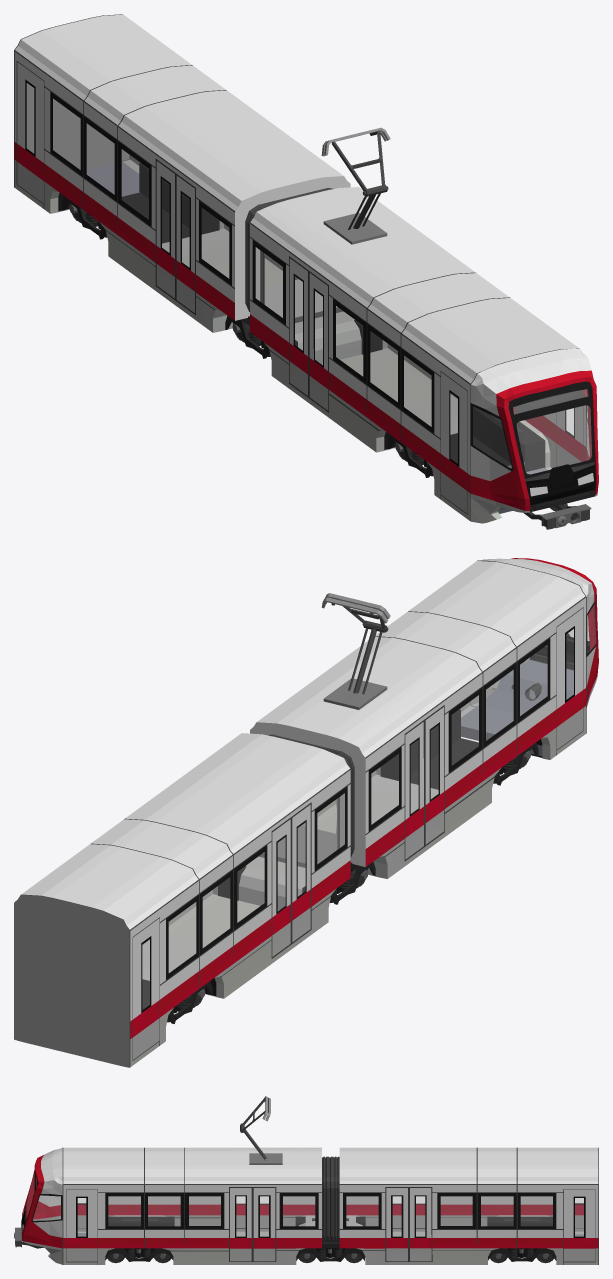
The model's file is light-rail-vehicle-v01.glb.
3 renders of one model, top to bottom at view 1: azimuth 30°, elevation 25°; view 2: azimuth 150°, elevation 25°; view 3: azimuth 270°, elevation 25°, orthographic. The views are drawn at different scales.
Parts seen in each view (by area): view 1: Plane.004, Plane.024, Plane.026, Plane.006, Plane.020, Plane.011, Plane.001, Plane.031, Plane.002, Circle.009, Cube, Plane.032; view 2: Plane.024, Plane.004, Plane.006, Plane.026, Plane.012, Plane.011, Circle.009, Plane.032, Cube, Plane.033; view 3: Plane.004, Plane.024, Plane.006, Plane.026, Cube, Plane.031, Plane.011, Plane.022, Plane.029, Plane.009, Plane.032, Plane.027 (+1 smaller).
Part boxes in pixels (x1,y1,x2,y2): Plane.004: [250, 187, 598, 523]; Plane.024: [14, 14, 350, 332]; Plane.026: [155, 159, 195, 315]; Plane.006: [289, 256, 328, 412]; Plane.020: [517, 405, 591, 473]; Plane.011: [384, 406, 545, 471]; Plane.001: [508, 381, 594, 478]; Plane.031: [58, 163, 219, 243]; Plane.002: [525, 462, 595, 505]; Circle.009: [332, 130, 388, 229]; Cube: [245, 188, 343, 322]; Plane.032: [323, 213, 387, 244]; Plane.024: [14, 733, 350, 1067]; Plane.004: [250, 558, 598, 878]; Plane.006: [404, 705, 444, 861]; Plane.026: [271, 802, 311, 958]; Plane.012: [461, 659, 573, 756]; Plane.011: [380, 709, 542, 789]; Circle.009: [331, 598, 388, 694]; Plane.032: [323, 678, 387, 709]; Cube: [258, 734, 354, 867]; Plane.033: [321, 593, 390, 623]; Plane.004: [22, 1147, 321, 1264]; Plane.024: [339, 1147, 598, 1264]; Plane.006: [229, 1187, 276, 1261]; Plane.026: [385, 1187, 432, 1261]; Cube: [322, 1156, 339, 1240]; Plane.031: [487, 1216, 552, 1257]; Plane.011: [108, 1216, 174, 1257]; Plane.022: [296, 1218, 364, 1261]; Plane.029: [488, 1218, 556, 1261]; Plane.009: [105, 1218, 173, 1261]; Plane.032: [249, 1153, 282, 1164]; Plane.027: [295, 1216, 365, 1257].
Bounding box in the file's own units: 2.83 × 5.9 × 20.98.
Materials: 2 (1 with a texture image).
